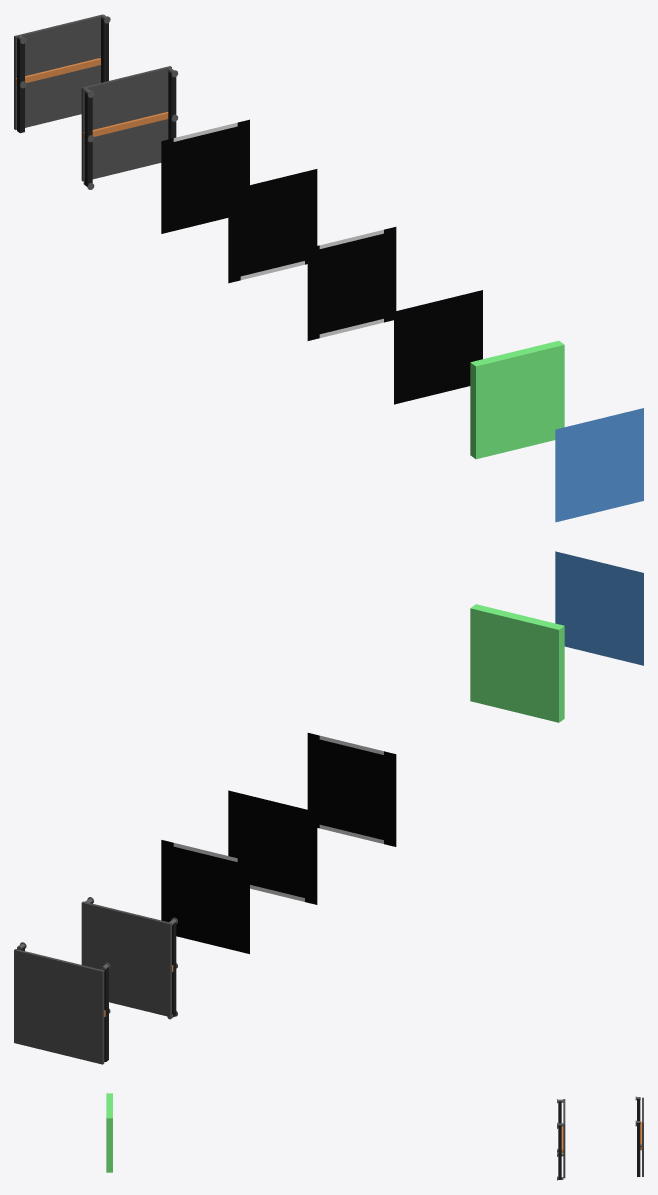
The model's file is DesignTileGüncel.fbx.
3 renders of one model, top to bottom at view 1: azimuth 30°, elevation 25°; view 2: azimuth 150°, elevation 25°; view 3: azimuth 270°, elevation 25°, orthographic. The views are drawn at different scales.
Parts seen in each view (by area): view 1: Plane, Circle.005, Plane.002, Plane.007, Plane.008, Plane.003, Plane.001, Plane.009; view 2: Plane, Plane.007, Circle.005, Plane.002, Plane.008, Plane.009, Plane.003; view 3: Circle.005, Plane, Plane.007.
Part boxes in pixels (box(x1,y1,x2,y2)): Plane: box(470, 340, 564, 459); Circle.005: box(81, 66, 178, 189); Plane.002: box(307, 227, 396, 340); Plane.007: box(14, 14, 110, 133); Plane.008: box(555, 408, 643, 522); Plane.003: box(228, 169, 317, 283); Plane.001: box(394, 290, 482, 404); Plane.009: box(161, 119, 249, 233); Plane: box(470, 604, 564, 722); Plane.007: box(14, 942, 110, 1064); Circle.005: box(81, 897, 177, 1019); Plane.002: box(307, 733, 396, 846); Plane.008: box(555, 551, 643, 665); Plane.009: box(161, 840, 249, 953); Plane.003: box(228, 790, 317, 904); Circle.005: box(557, 1099, 565, 1180); Plane: box(106, 1093, 112, 1172); Plane.007: box(635, 1096, 643, 1176).
Bounding box in the file's own units: 102 × 116 × 1056.
